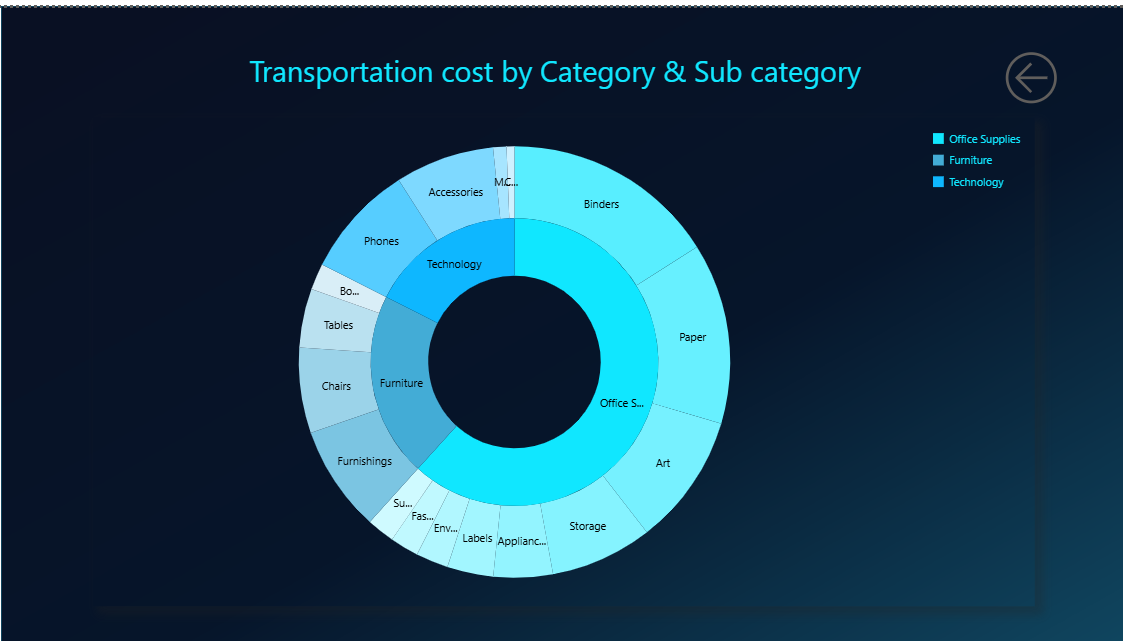

The page's visual inventory and layout, read from the dashboard file:
{"tool":"powerbi","page":{"name":"Transport","canvas":[1280,720],"ordinal":5},"visuals":[{"type":"doubleDonut2B2DE03D219E04DFF80684A45ECA4D25E","fields":{"category":["Supply Chain.Category"],"subcategory":["Supply Chain.Sub-Category"],"value":["Sum(Supply Chain.Transportation_Cost)"]},"box":[130.7,120.9,1046,542.7],"z":0},{"type":"textbox","box":[12.8,42.2,1260.4,59.9],"z":1000},{"type":"actionButton","box":[1136.6,42.2,136.5,71.7],"z":2000}]}

Visuals, with their boxes in screenshot pixels (x1, y1, x2, y2), scaled from the page's 1280x720 canvas onto the 1123x641 screenshot:
doubleDonut2B2DE03D219E04DFF80684A45ECA4D25E - Supply Chain.Category x Supply Chain.Sub-Category: left=115, top=108, right=1032, bottom=591
textbox: left=11, top=38, right=1117, bottom=91
actionButton: left=997, top=38, right=1117, bottom=101
